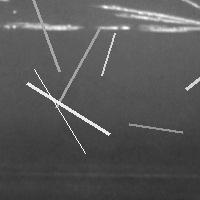scratches: (29, 64, 90, 158), (22, 78, 114, 139), (51, 24, 104, 112), (88, 1, 200, 34), (25, 0, 64, 76), (2, 16, 86, 34), (97, 28, 120, 80), (124, 119, 187, 137), (181, 56, 200, 94)
